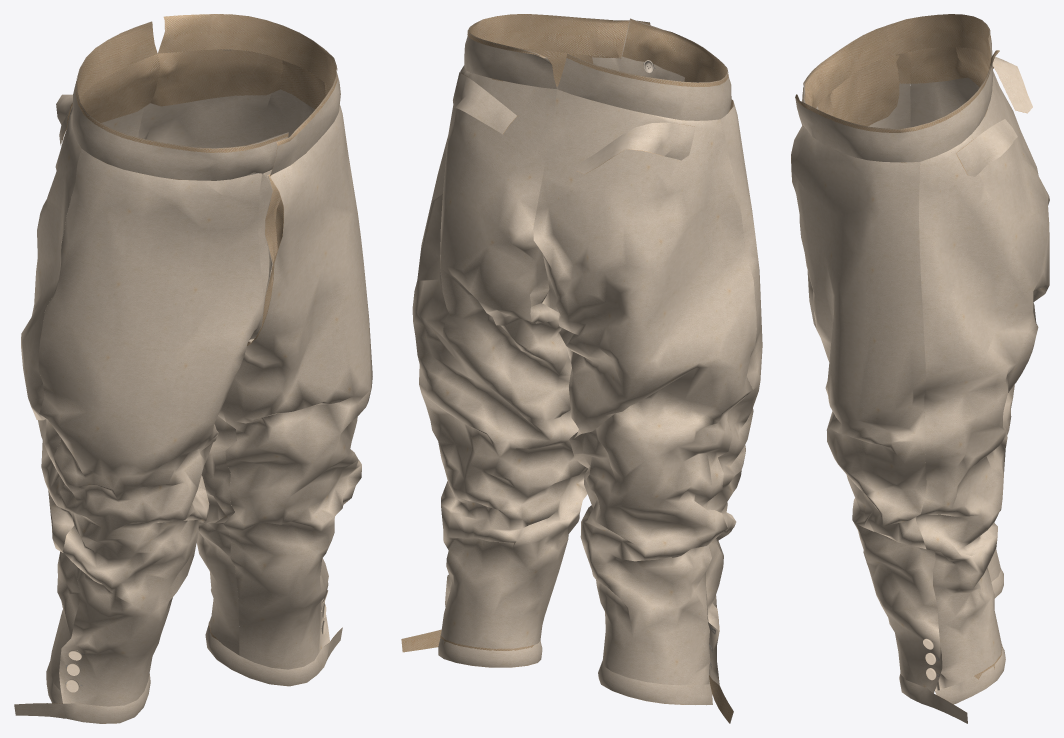
The picture shows the model from 3 angles, left to right: view 1: azimuth 30°, elevation 25°; view 2: azimuth 150°, elevation 25°; view 3: azimuth 270°, elevation 25°; orthographic projection. The views are drawn at different scales.
Parts seen in each view (by area): view 1: Pattern_233992, Pattern_233991, Pattern_25157062, Pattern_25157063, Pattern_322609, Pattern_130480, Pattern_122395, Pattern_322608, Pattern_130481, Pattern_333343, Pattern_333342, Pattern_122394 (+3 smaller); view 2: Pattern_25157063, Pattern_25157062, Pattern_233992, Pattern_130480, Pattern_122395, Pattern_130481, Pattern_122394, Pattern_169446, Pattern_333343, Pattern_333342, Pattern_169443, Pattern_333344 (+3 smaller); view 3: Pattern_25157062, Pattern_233991, Pattern_130481, Pattern_122394, Pattern_26256211, Pattern_25157063, Pattern_322608, Pattern_333342, Pattern_169443, Pattern_169446, Pattern_233992, Pattern_3925292 (+1 smaller).
Boxes of the visible parts, <box> form: Pattern_233992: <box>38,148,263,706</box>; Pattern_233991: <box>222,105,372,669</box>; Pattern_25157062: <box>138,49,314,654</box>; Pattern_25157063: <box>21,106,205,690</box>; Pattern_322609: <box>150,49,325,109</box>; Pattern_130480: <box>72,21,287,180</box>; Pattern_122395: <box>158,14,336,173</box>; Pattern_322608: <box>80,54,160,122</box>; Pattern_130481: <box>77,22,256,148</box>; Pattern_333343: <box>14,662,150,723</box>; Pattern_333342: <box>205,625,342,686</box>; Pattern_122394: <box>159,14,340,175</box>; Pattern_25157063: <box>533,89,756,685</box>; Pattern_25157062: <box>412,65,587,648</box>; Pattern_233992: <box>705,101,762,684</box>; Pattern_130480: <box>557,30,731,120</box>; Pattern_122395: <box>469,14,649,67</box>; Pattern_130481: <box>569,19,727,82</box>; Pattern_122394: <box>464,14,650,88</box>; Pattern_169446: <box>577,122,695,174</box>; Pattern_333343: <box>598,661,733,723</box>; Pattern_333342: <box>401,629,542,667</box>; Pattern_169443: <box>453,72,516,133</box>; Pattern_333344: <box>401,630,537,667</box>; Pattern_25157062: <box>916,76,1049,690</box>; Pattern_233991: <box>791,126,942,693</box>; Pattern_130481: <box>804,14,991,108</box>; Pattern_122394: <box>795,51,998,162</box>; Pattern_26256211: <box>830,55,899,126</box>; Pattern_25157063: <box>910,71,1038,581</box>; Pattern_322608: <box>910,47,989,86</box>; Pattern_333342: <box>899,646,1005,723</box>; Pattern_169443: <box>956,119,1017,176</box>; Pattern_169446: <box>992,56,1032,112</box>; Pattern_233992: <box>807,83,910,329</box>; Pattern_3925292: <box>795,51,999,132</box>.
Size of the model in its own units: 0.4271 by 0.8045 by 0.312.
5 materials, 4 textured.
